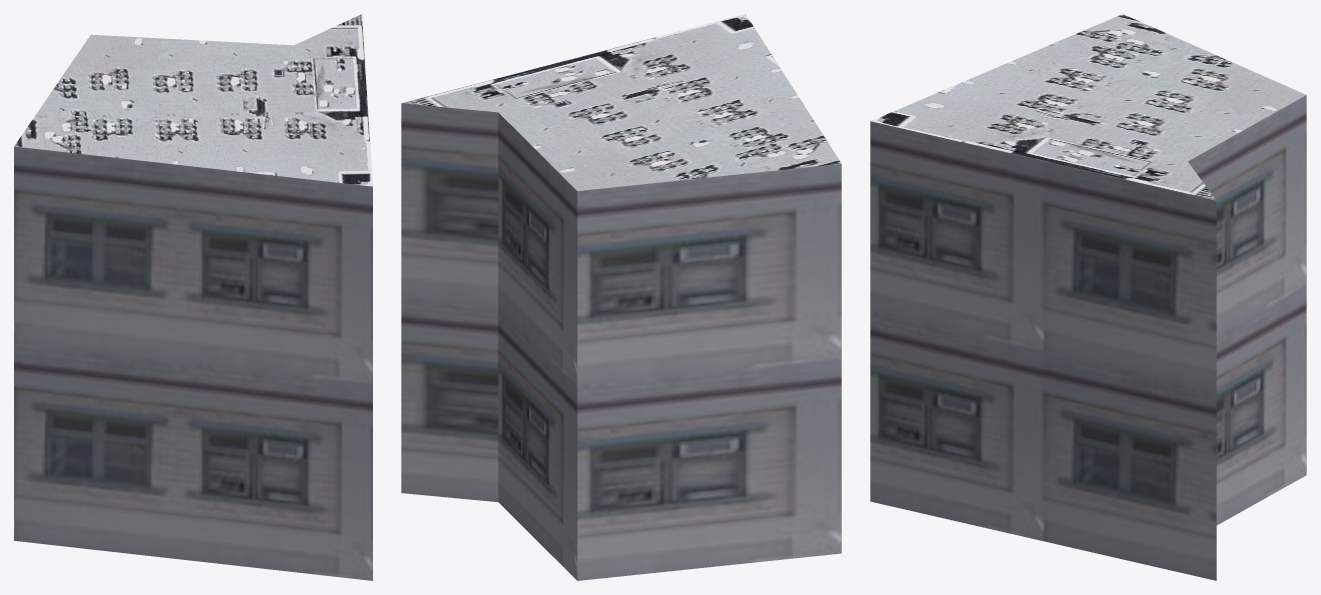
File: ResTex__1826.fbx
3 renders of one model, left to right at view 1: azimuth 30°, elevation 25°; view 2: azimuth 150°, elevation 25°; view 3: azimuth 270°, elevation 25°, orthographic. The views are drawn at different scales.
Visible parts, largest first — view 1: CityEngineMaterial_1_m, CityEngineMaterial_m; view 2: CityEngineMaterial_1_m, CityEngineMaterial_m; view 3: CityEngineMaterial_1_m, CityEngineMaterial_m.
Boxes of the visible parts, x1,y1,x2,y2 form: CityEngineMaterial_1_m: (14, 146, 372, 580); CityEngineMaterial_m: (14, 14, 372, 186); CityEngineMaterial_1_m: (401, 103, 841, 580); CityEngineMaterial_m: (402, 14, 841, 190); CityEngineMaterial_1_m: (870, 95, 1306, 580); CityEngineMaterial_m: (871, 14, 1305, 200).
Size of the model in its own units: 6.32 by 6 by 6.24.
2 materials, 2 textured.
